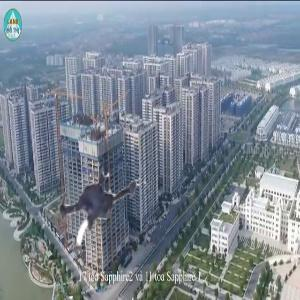drone: (39, 154, 150, 265)
